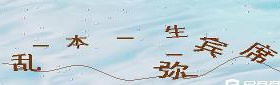chinese: (12, 48, 40, 75), (195, 33, 224, 57), (245, 42, 272, 65), (160, 60, 186, 81), (163, 21, 185, 38), (67, 30, 86, 49)
